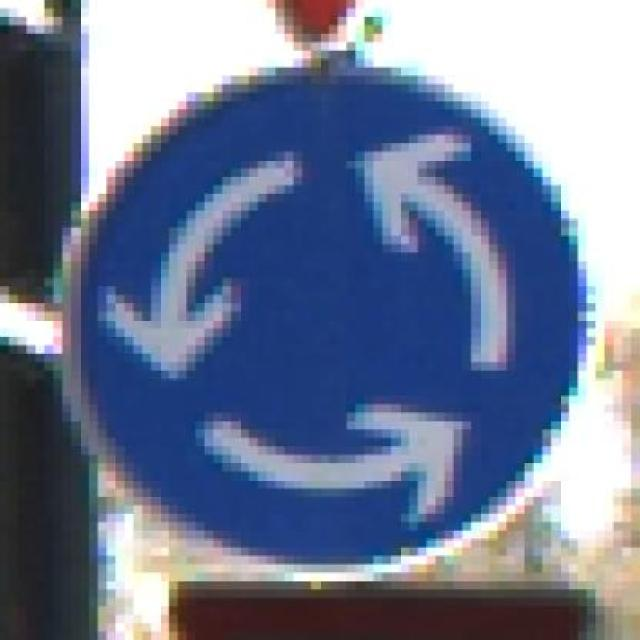Round-About: (61, 67, 604, 581)
